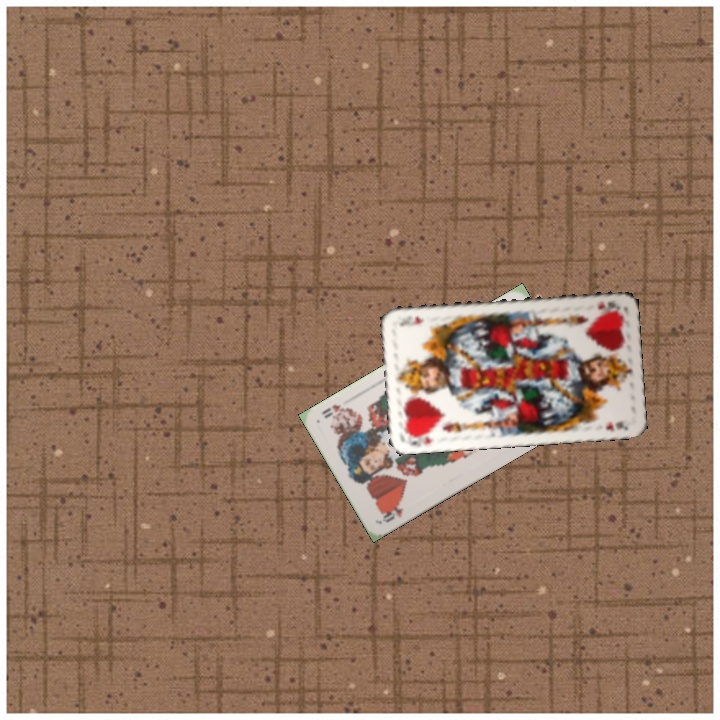HK: (402, 428, 436, 449), (594, 298, 619, 315)
HO: (378, 500, 406, 525)
